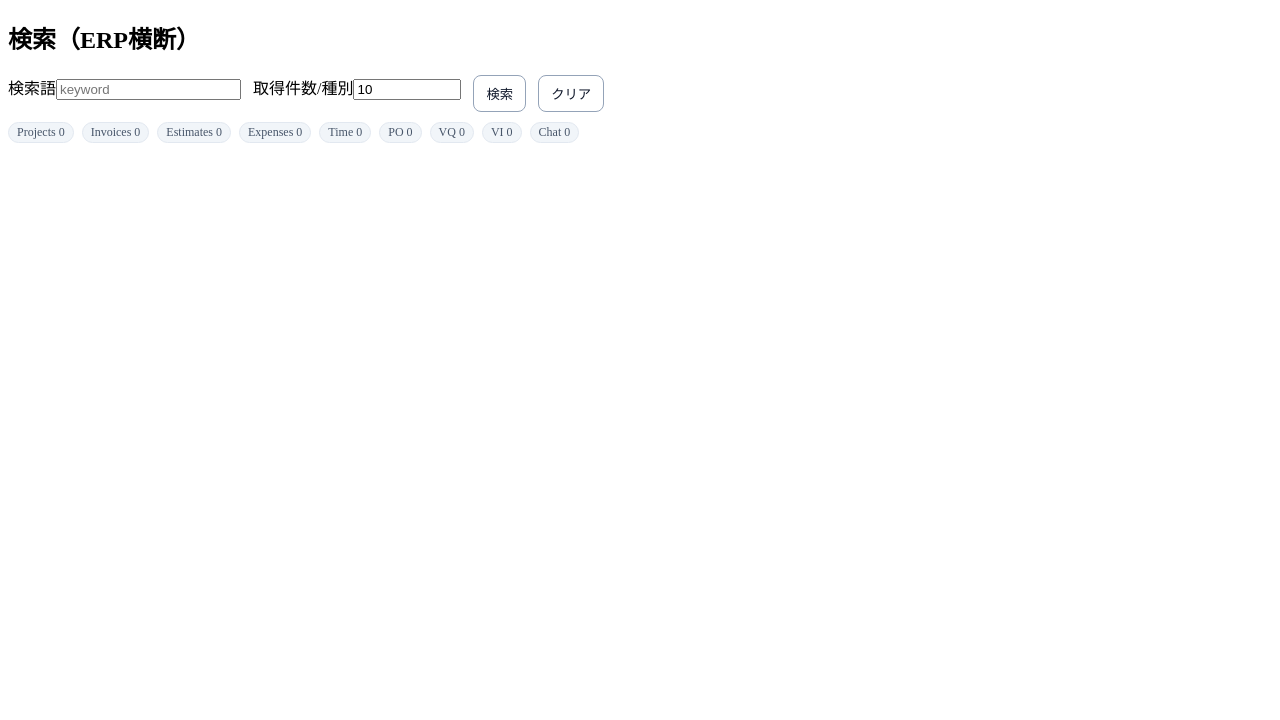
it: GlobalSearch › clears existing results when ERP search fails after a successful search
Step 1. Type "AB" into the field labelled "検索語" → point(148, 89), box [56, 79, 241, 100]
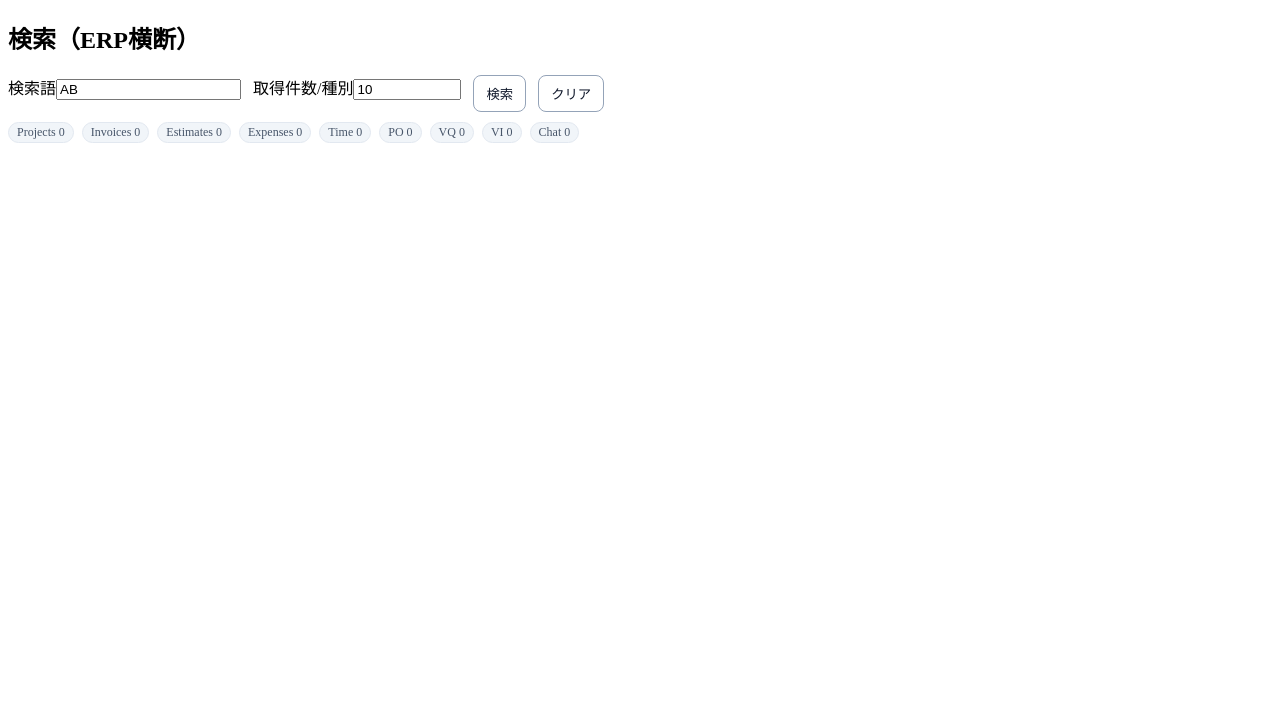
Step 2. Click the button "検索" → point(500, 93), box [474, 75, 526, 112]
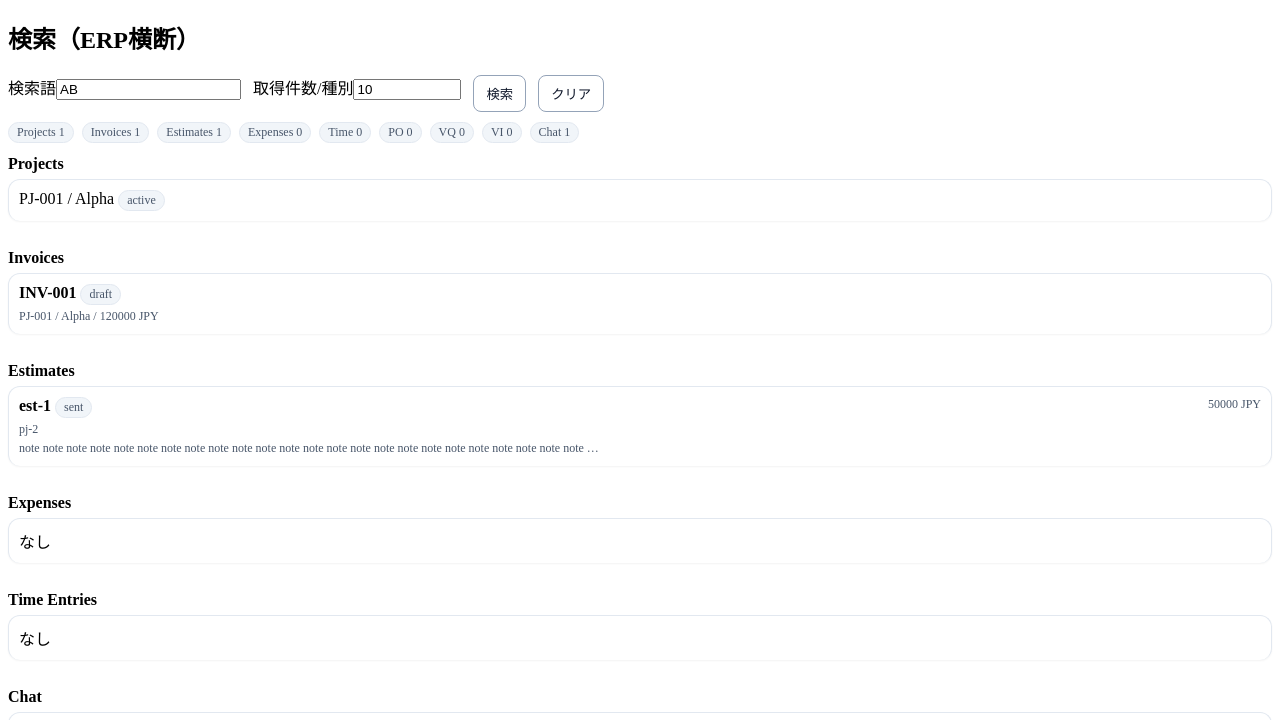
Result: the list item "PJ-001 / Alpha" is shown at [8, 179, 1272, 221]
Result: the text "Projects 1" is shown at [8, 122, 74, 143]
Result: the text "Chat 1" is shown at [530, 122, 579, 143]
Step 3. Click the button "検索" → point(500, 93), box [474, 75, 526, 112]
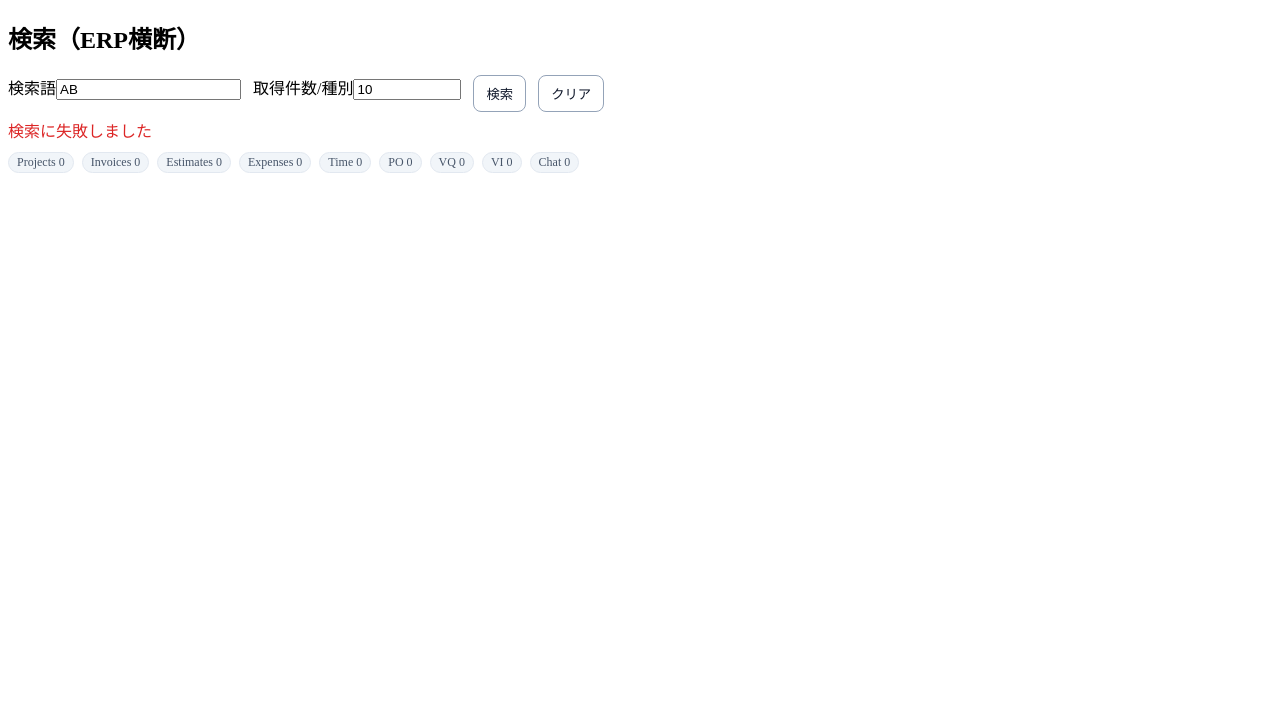
Result: the text "検索に失敗しました" is shown at [8, 123, 152, 140]
Result: the list item "PJ-001 / Alpha" is gone
Result: the text "Projects 0" is shown at [8, 152, 74, 173]
